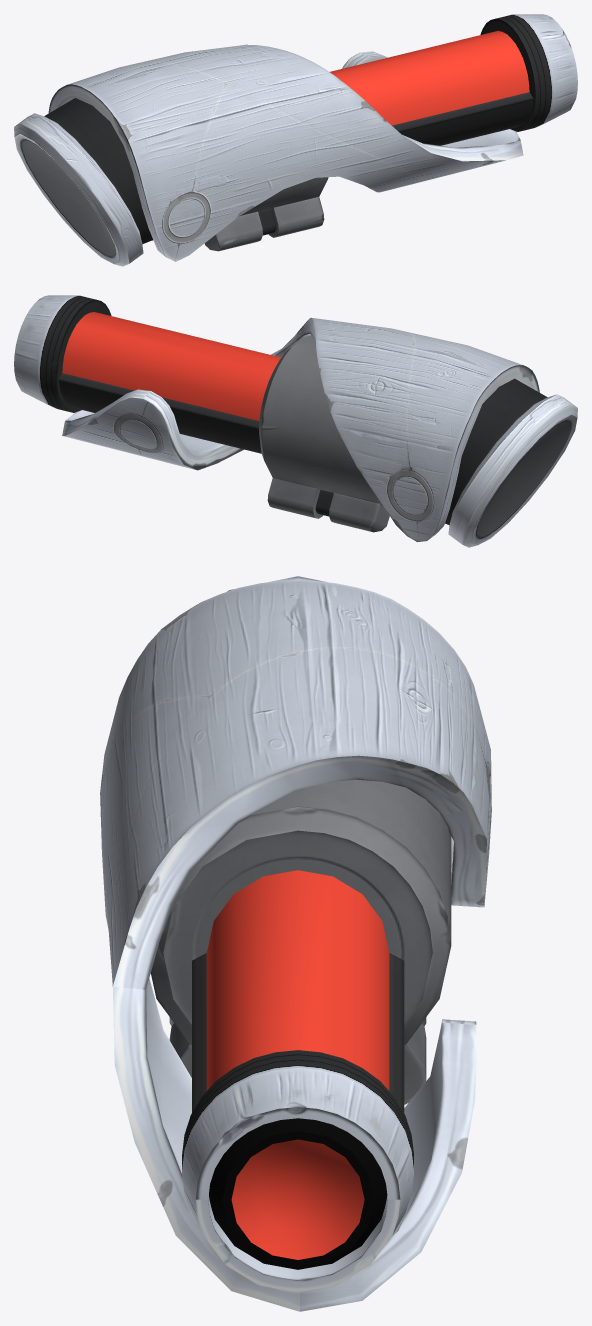
The model's file is laser_gun.obj.
3 views of the same model, one above another, from view 1: azimuth 30°, elevation 25°; view 2: azimuth 150°, elevation 25°; view 3: azimuth 270°, elevation 25° (orthographic). The views are drawn at different scales.
Visible parts, largest first — view 1: NewGunStatic001_1, NewGunStatic001_2; view 2: NewGunStatic001_1, NewGunStatic001_2; view 3: NewGunStatic001_1, NewGunStatic001_2, NewGunStatic001_3.
Part boxes in pixels (<box>): NewGunStatic001_1: <box>14,14,577,266</box>; NewGunStatic001_2: <box>330,31,529,125</box>; NewGunStatic001_1: <box>14,295,577,547</box>; NewGunStatic001_2: <box>62,312,281,420</box>; NewGunStatic001_1: <box>100,576,491,1311</box>; NewGunStatic001_2: <box>206,870,389,1090</box>; NewGunStatic001_3: <box>231,1139,364,1259</box>.
Size of the model in its own units: 0.8 by 0.2619 by 0.2615.
